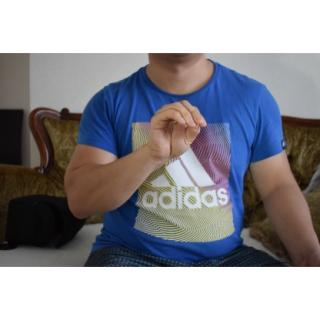HA: (145, 95, 214, 164)
